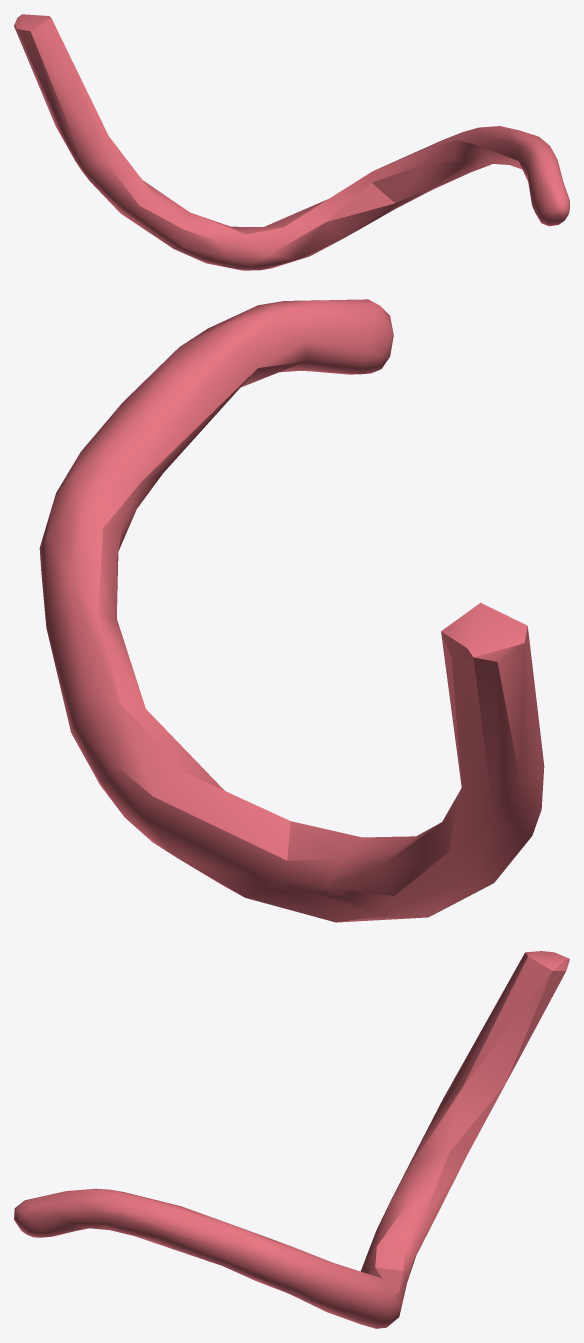
File: fma70480_fj3546.glb
The picture shows the model from 3 angles, top to bottom: view 1: azimuth 30°, elevation 25°; view 2: azimuth 150°, elevation 25°; view 3: azimuth 270°, elevation 25°; orthographic projection. The views are drawn at different scales.
Parts seen in each view (by area): view 1: FMA70480_FJ3546; view 2: FMA70480_FJ3546; view 3: FMA70480_FJ3546.
Part boxes in pixels (x1,y1,x2,y2): FMA70480_FJ3546: [14, 14, 569, 270]; FMA70480_FJ3546: [39, 299, 544, 922]; FMA70480_FJ3546: [14, 951, 569, 1328].
Size of the model in its own units: 0.0233 by 0.0148 by 0.0281.
